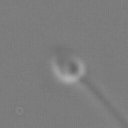normal: (81, 78, 128, 128)
